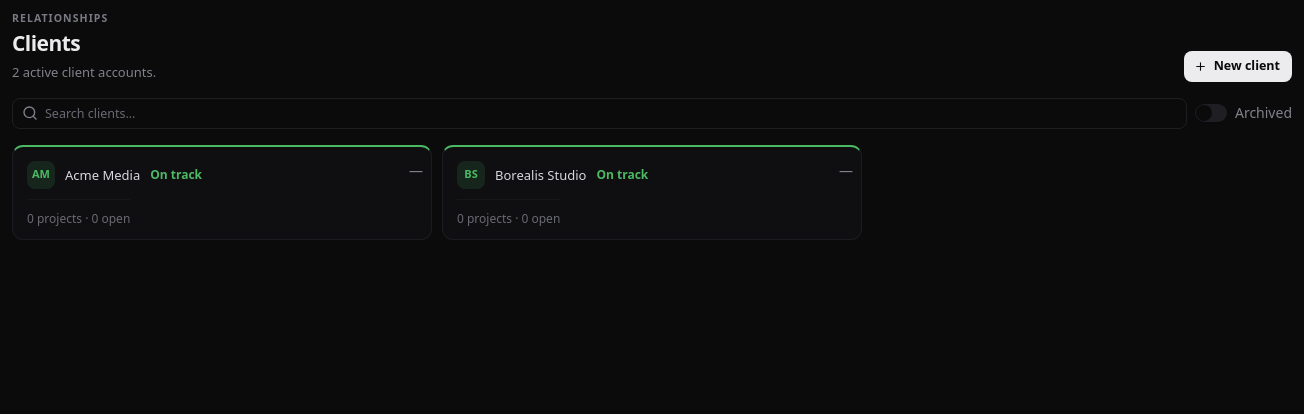
Test: ClientsPage search › says the search matched nothing rather than that the workspace has no clients
Expected: the text "2 active client accounts." is shown, x1=12 y1=62 x2=156 y2=82
Type "zzzz-no-client" into the field labelled "Search clients…" at (599, 113), box x1=12 y1=98 x2=1187 y2=129
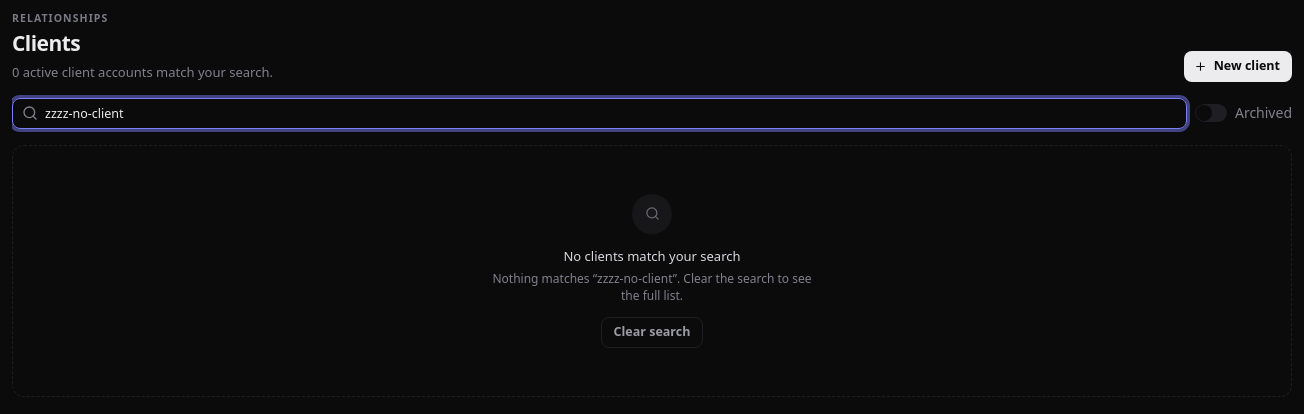
Now the heading "No clients match your search" is shown, box x1=564 y1=247 x2=741 y2=265
Now the text "Nothing matches “zzzz-no-client”" is shown, box x1=492 y1=270 x2=812 y2=304
Now the text "0 active client accounts match your search." is shown, box x1=12 y1=62 x2=273 y2=82
